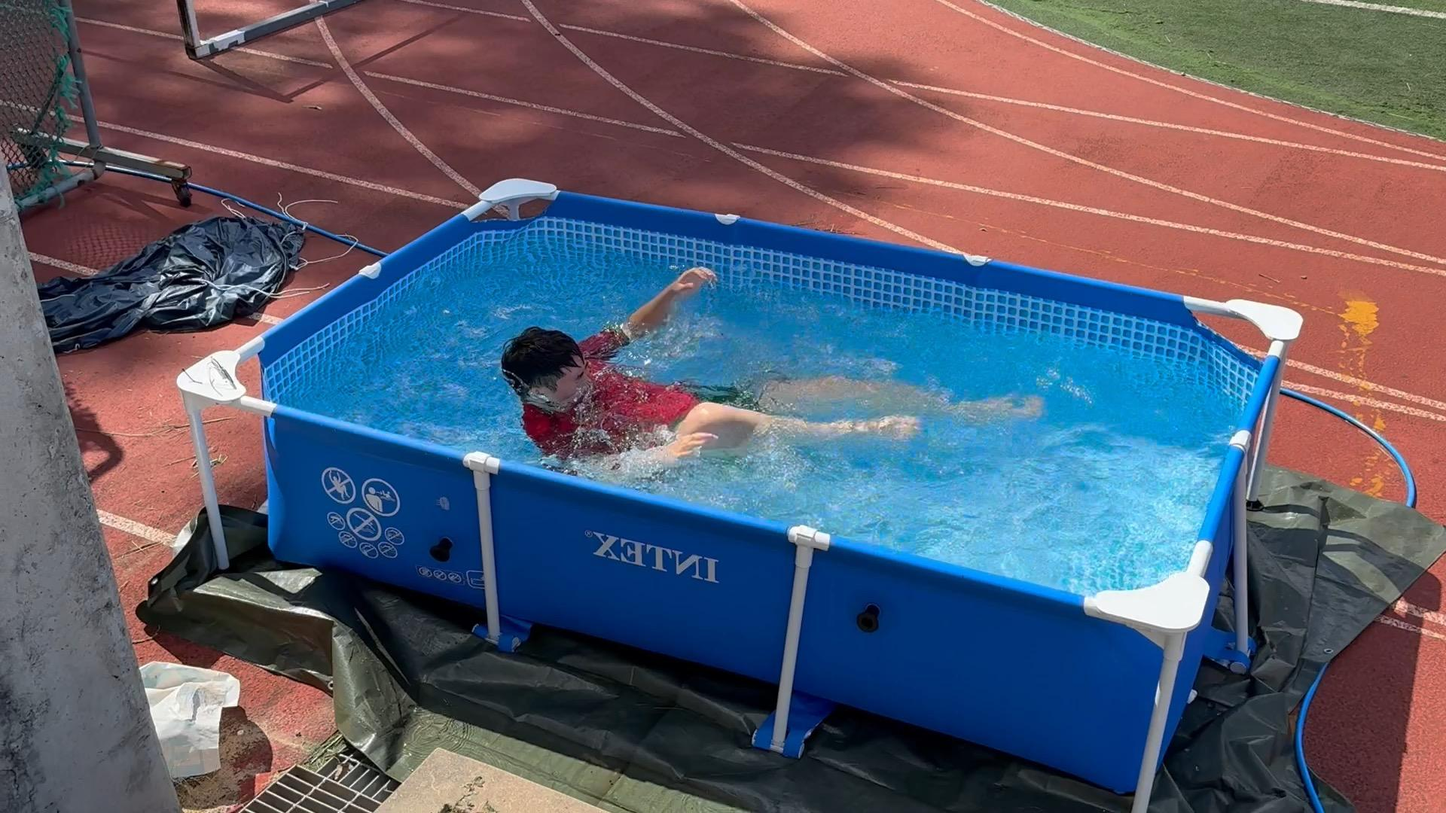Drowning: (461, 261, 1062, 502)
